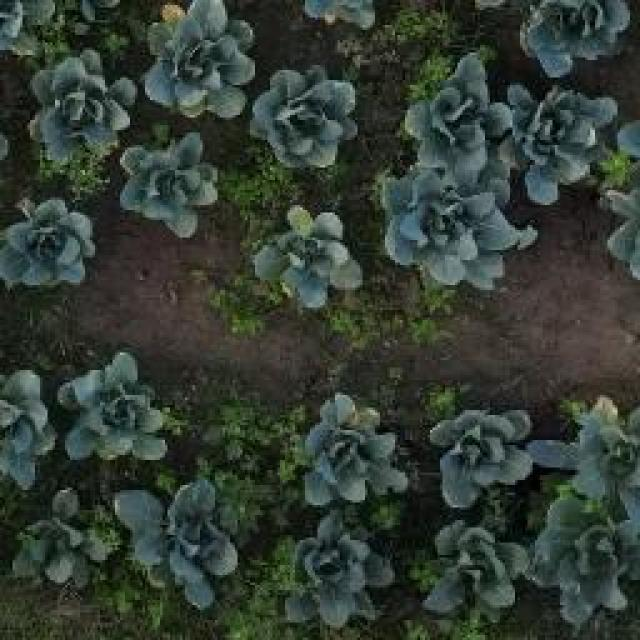cabbage: (380, 163, 538, 294), (115, 479, 242, 615), (23, 47, 153, 169), (498, 79, 622, 201), (136, 2, 252, 122), (58, 358, 178, 469), (278, 507, 388, 625), (531, 505, 640, 624), (292, 398, 408, 505), (406, 49, 498, 182), (1, 487, 112, 597), (112, 131, 222, 242), (243, 206, 362, 306), (422, 518, 531, 625), (426, 403, 532, 507), (249, 68, 363, 164), (538, 408, 640, 508), (0, 198, 103, 296), (515, 0, 634, 75), (0, 358, 55, 490)
